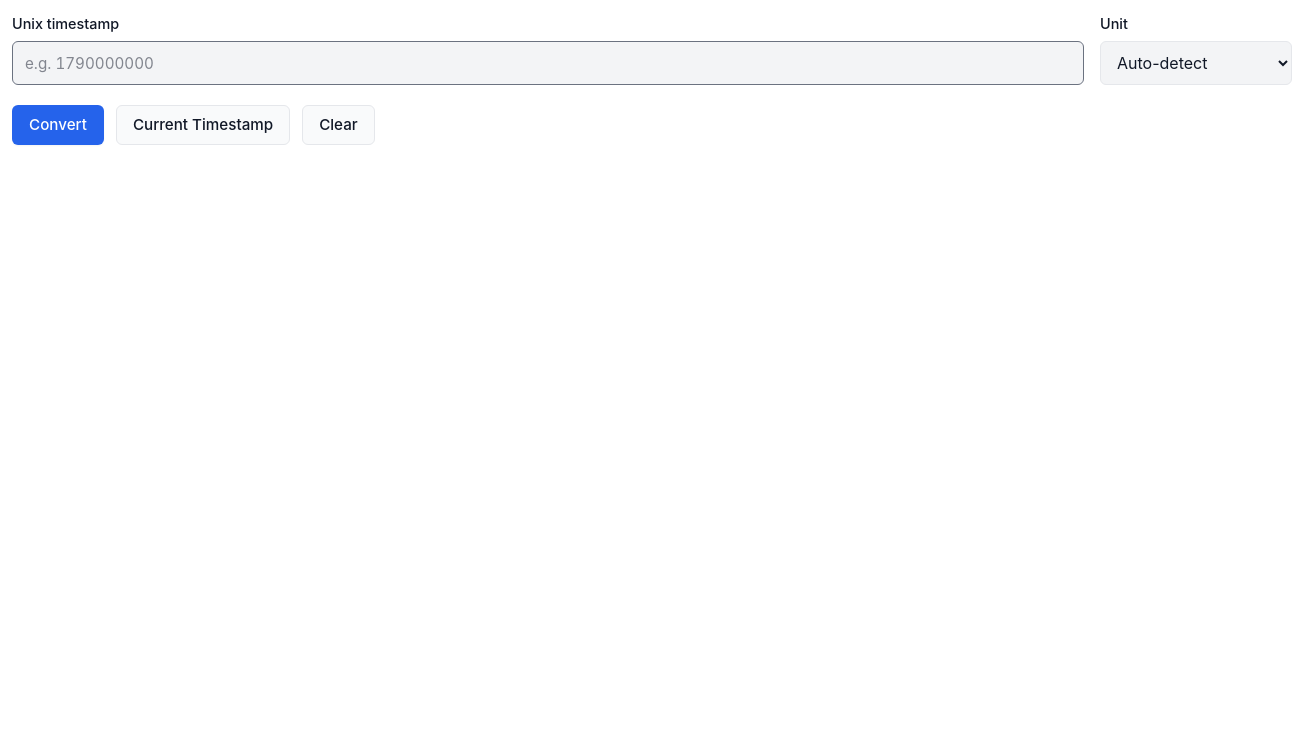
Test: Unix Timestamp Converter › handles negative timestamps
Type "-86400" into the field labelled "Unix timestamp" at x=548, y=63, box left=12, top=41, right=1084, bottom=85
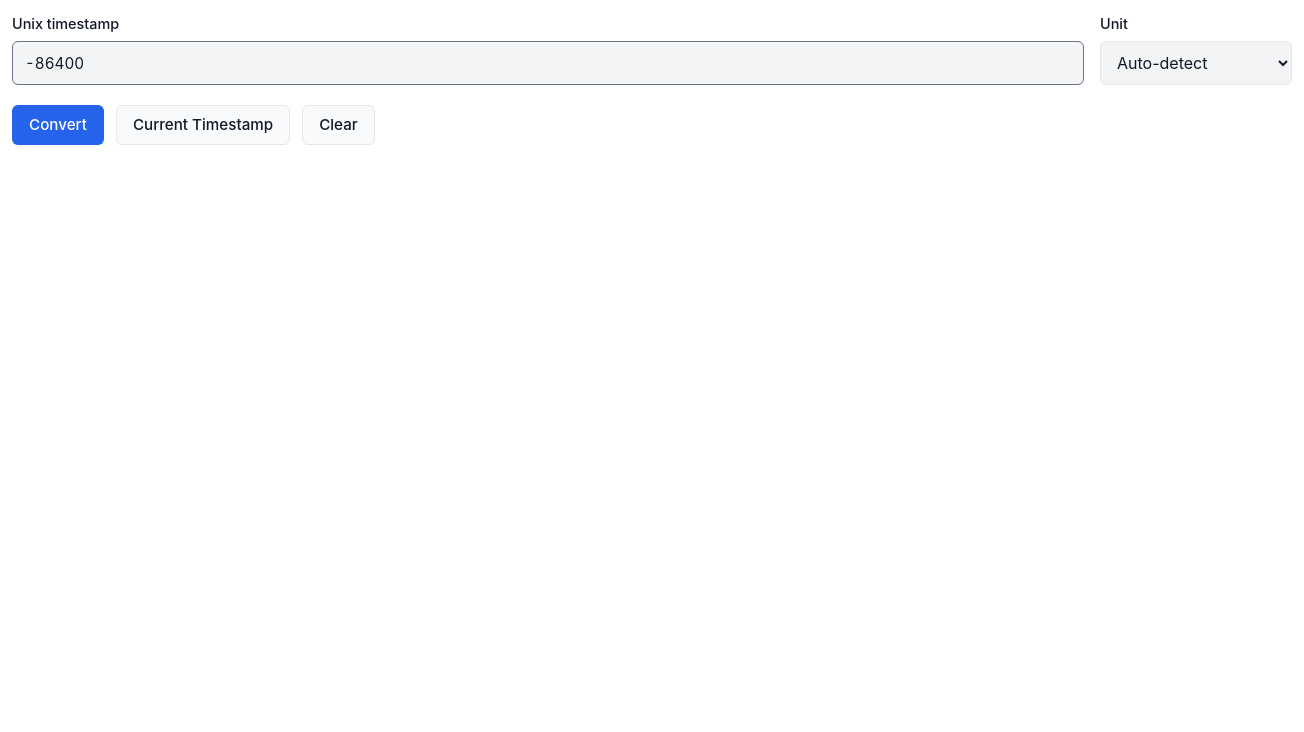
Click the button "Convert" at x=58, y=125, box left=12, top=105, right=104, bottom=145
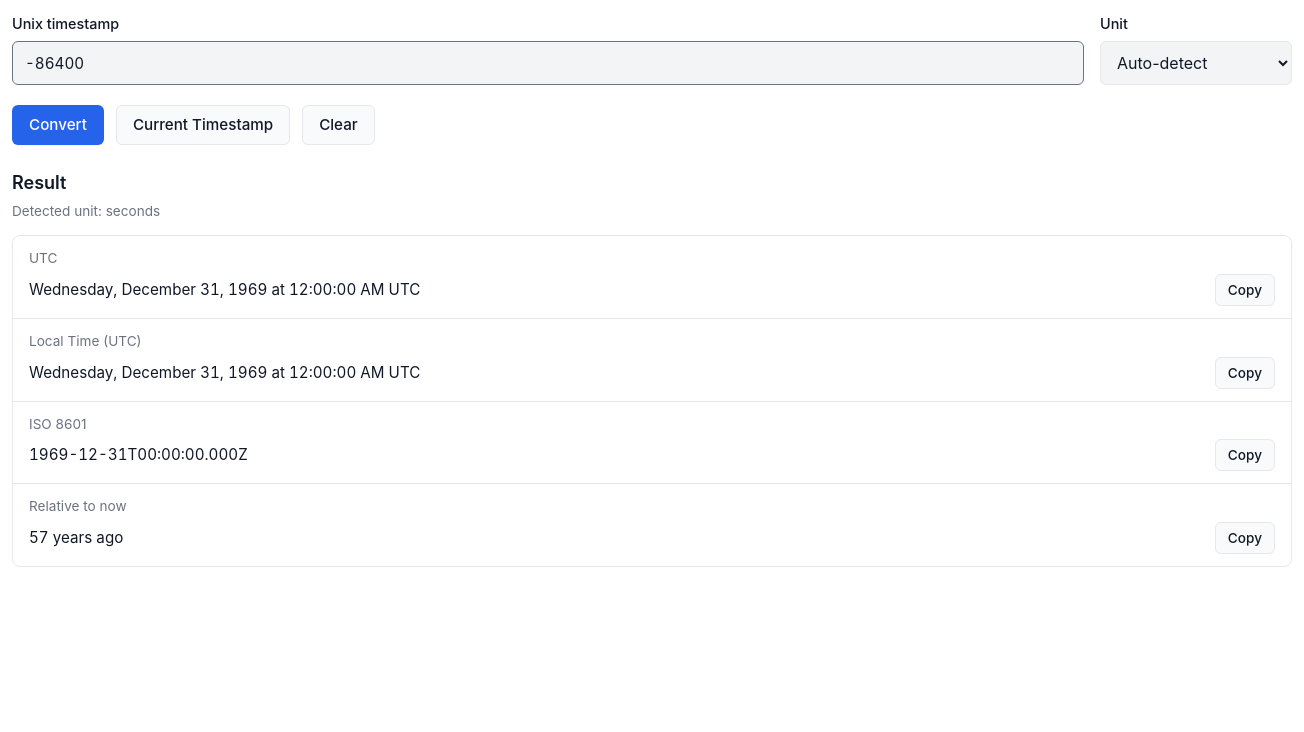
Result: the text "1969-12-31T00:00:00.000Z" is shown at left=29, top=445, right=248, bottom=464
